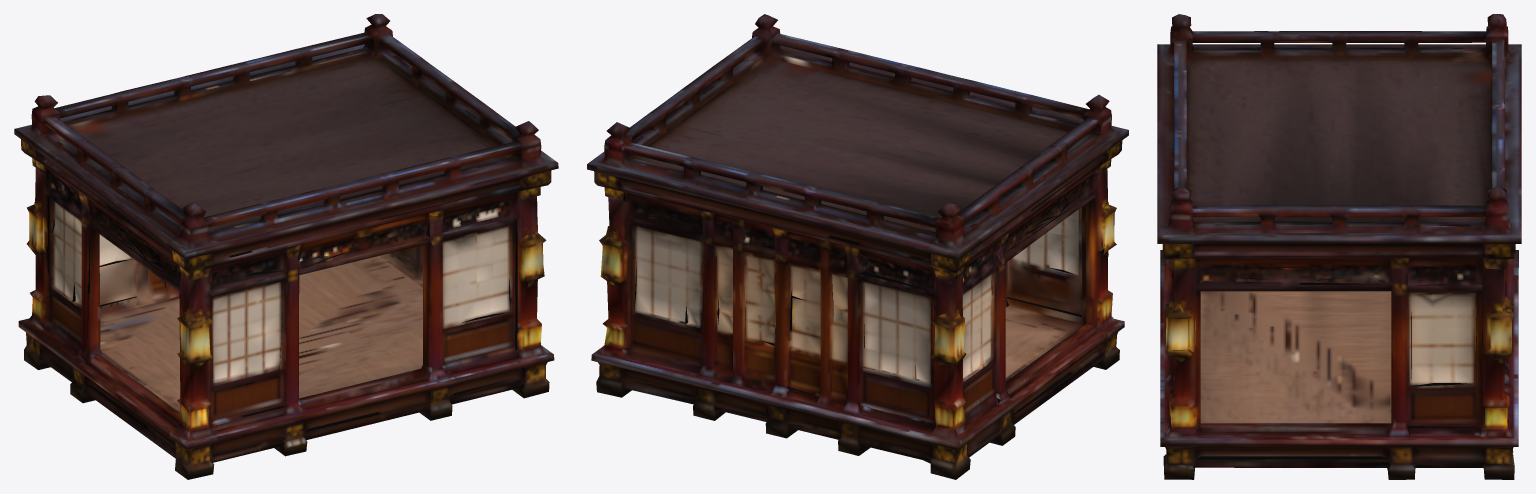
Rendered from CorrectedRoom.fbx.
3 renders of one model, left to right at view 1: azimuth 30°, elevation 25°; view 2: azimuth 150°, elevation 25°; view 3: azimuth 270°, elevation 25°, orthographic. The views are drawn at different scales.
Visible parts, largest first — view 1: node_0.001; view 2: node_0.001; view 3: node_0.001.
Boxes of the visible parts, x1,y1,x2,y2 form: node_0.001: (14,14,558,479); node_0.001: (587,14,1128,479); node_0.001: (1157,14,1521,479).
Size of the model in its own units: 85.36 by 58.65 by 67.82.
